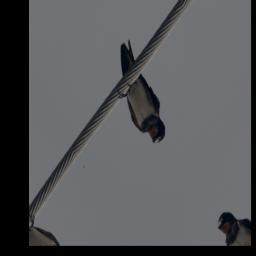Swallow: (98, 37, 184, 152)
